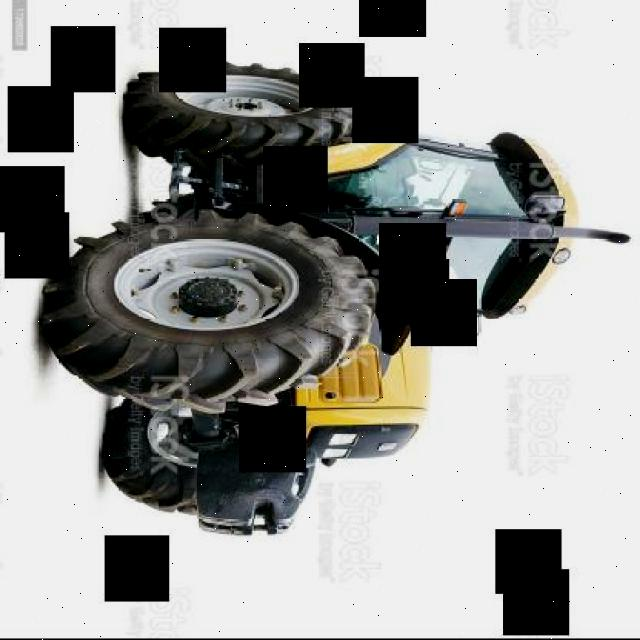Tratores - v5 YOLO V8L 2024-11-13: (0, 48, 637, 550)
